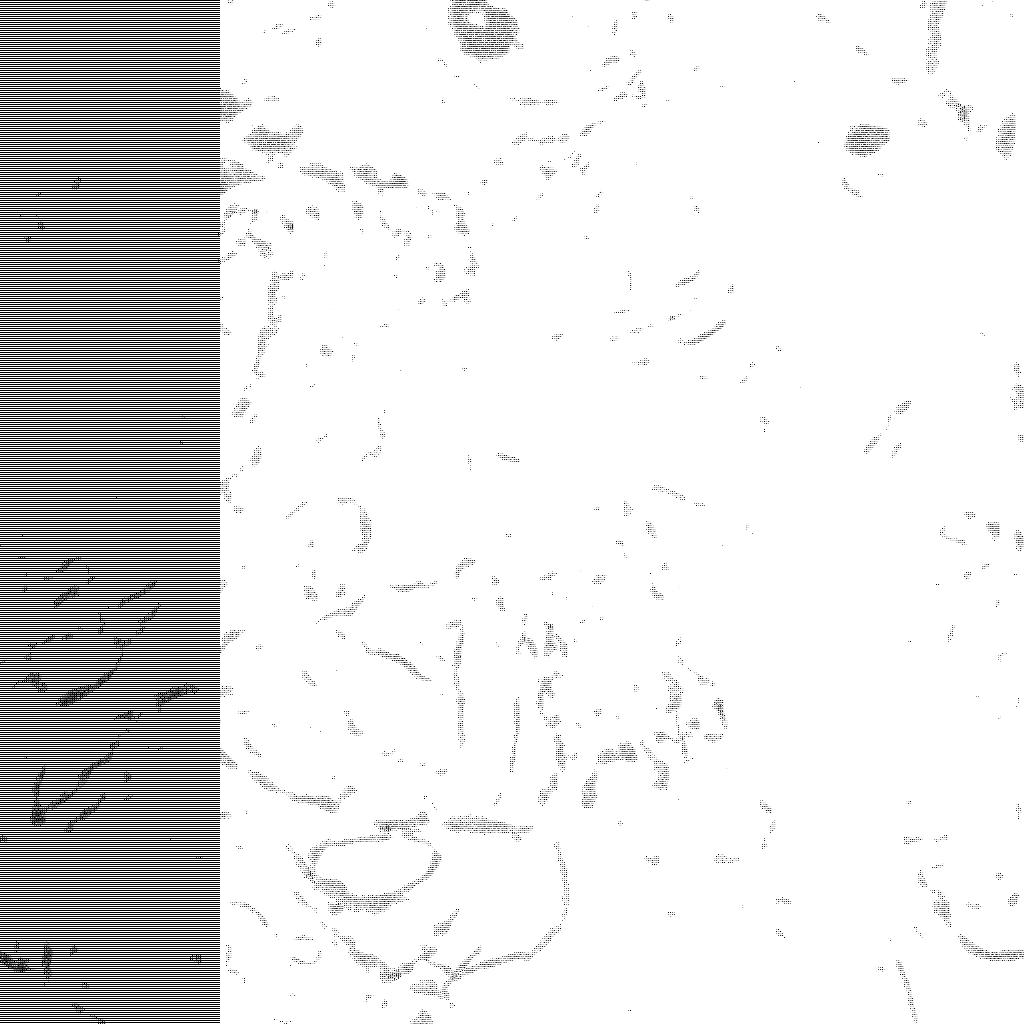axone: (442, 1, 527, 63)
